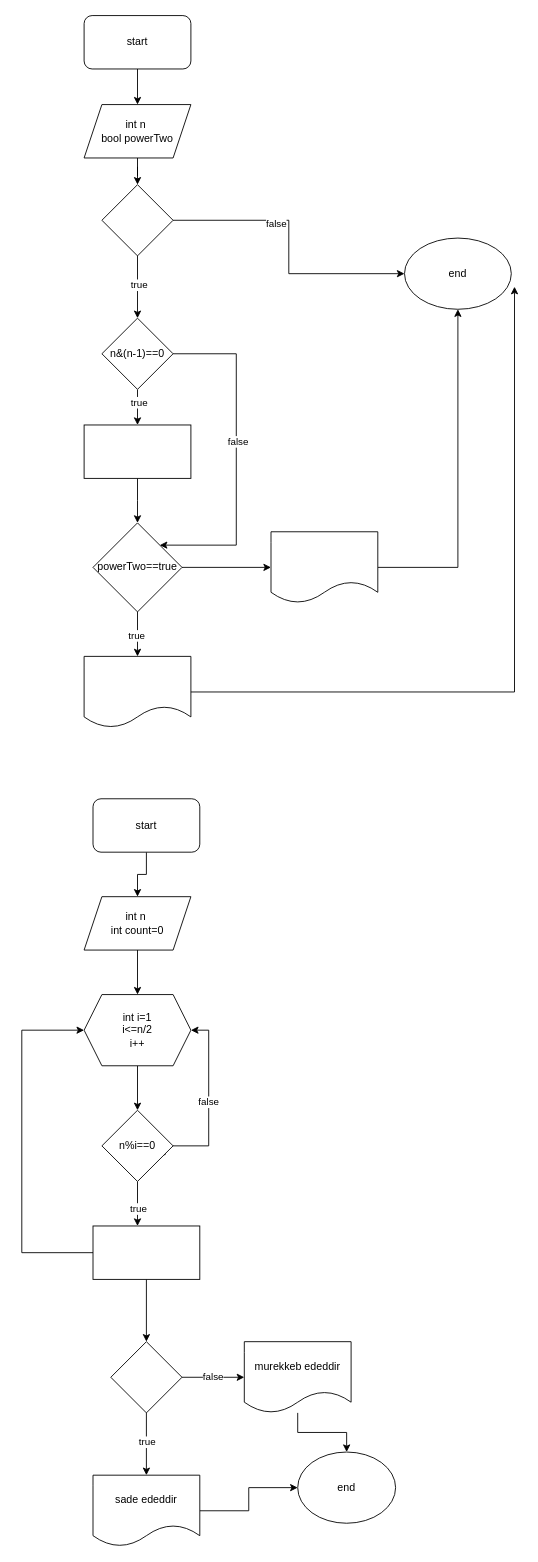
The diagram is 538 pixels wide and 1562 high, and some of its shapes have lost their labels. Each missing label, with the centre of its shape:
2 niin quvveti deyil: the point at 324,567
2 nin quvvetidir: the point at 137,691
count++: the point at 146,1252
count==1: the point at 146,1377
n>0: the point at 137,220
powerTwo=true: the point at 137,451
